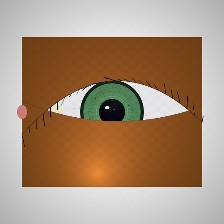pinguecula_lesion: (31, 94, 75, 129)
